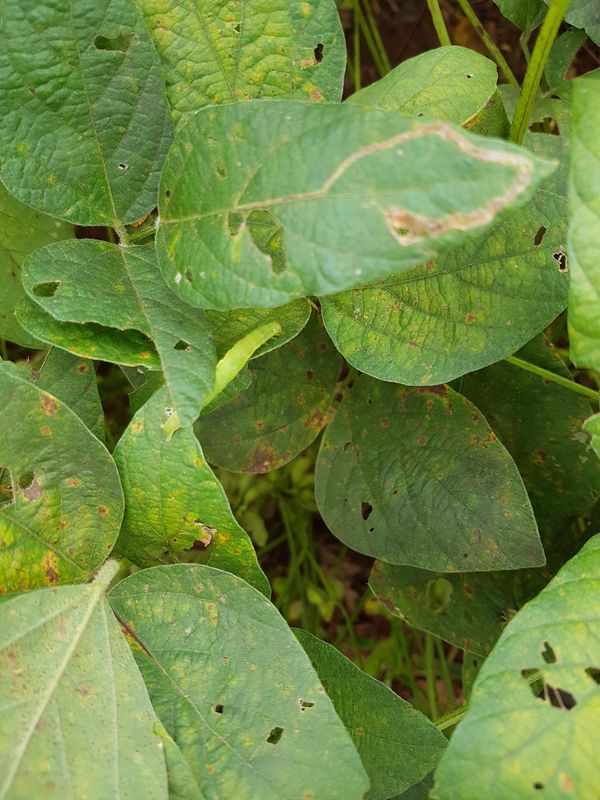Anticarsia_gemmatalis: (145, 312, 290, 449)
